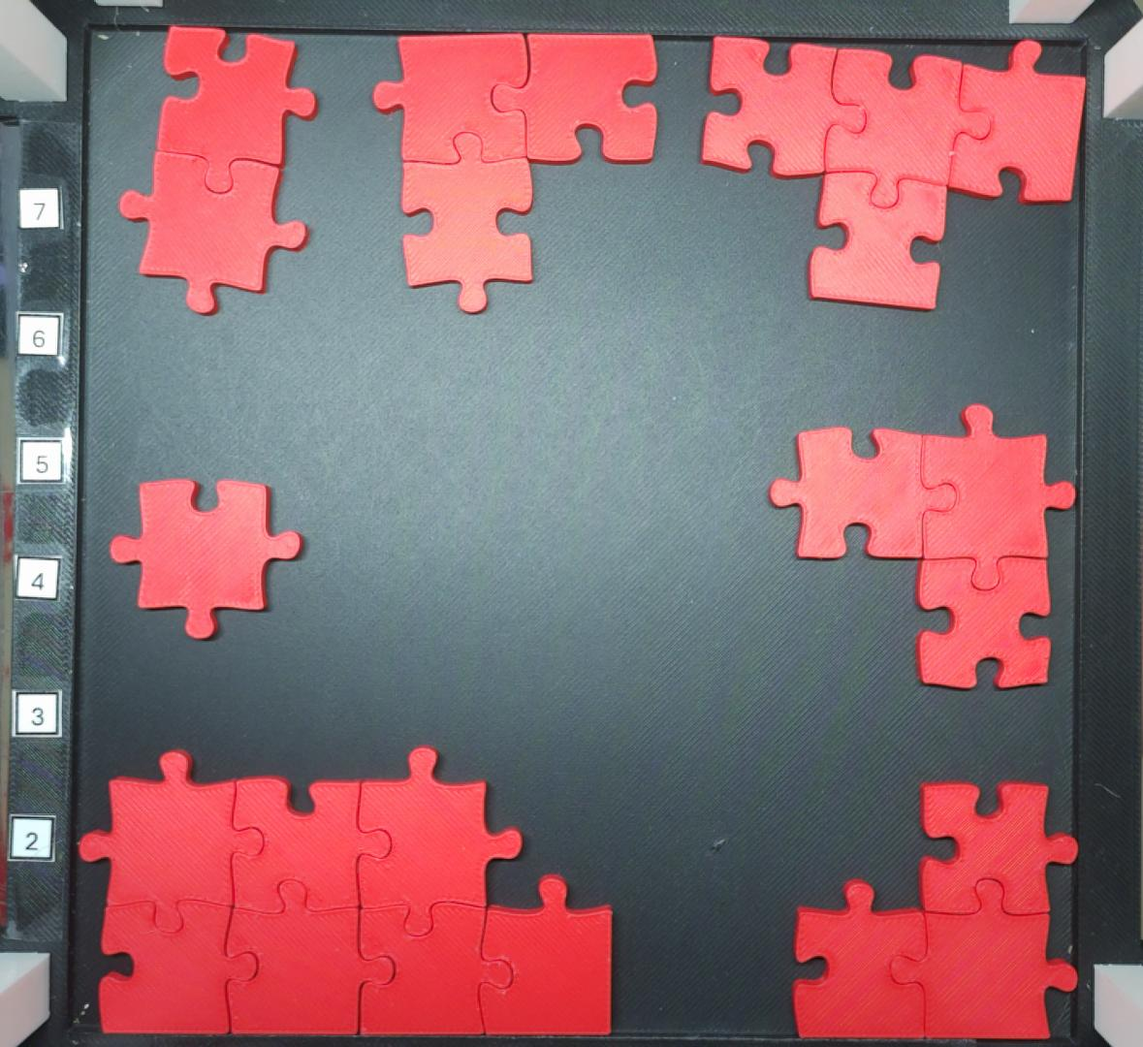p_1: (107, 476, 305, 641)
p_2: (116, 22, 321, 316)
p_3: (768, 404, 1078, 691), (371, 30, 659, 315), (789, 781, 1080, 1042)
p_4: (699, 32, 1090, 313)
p_m: (77, 745, 616, 1038)
